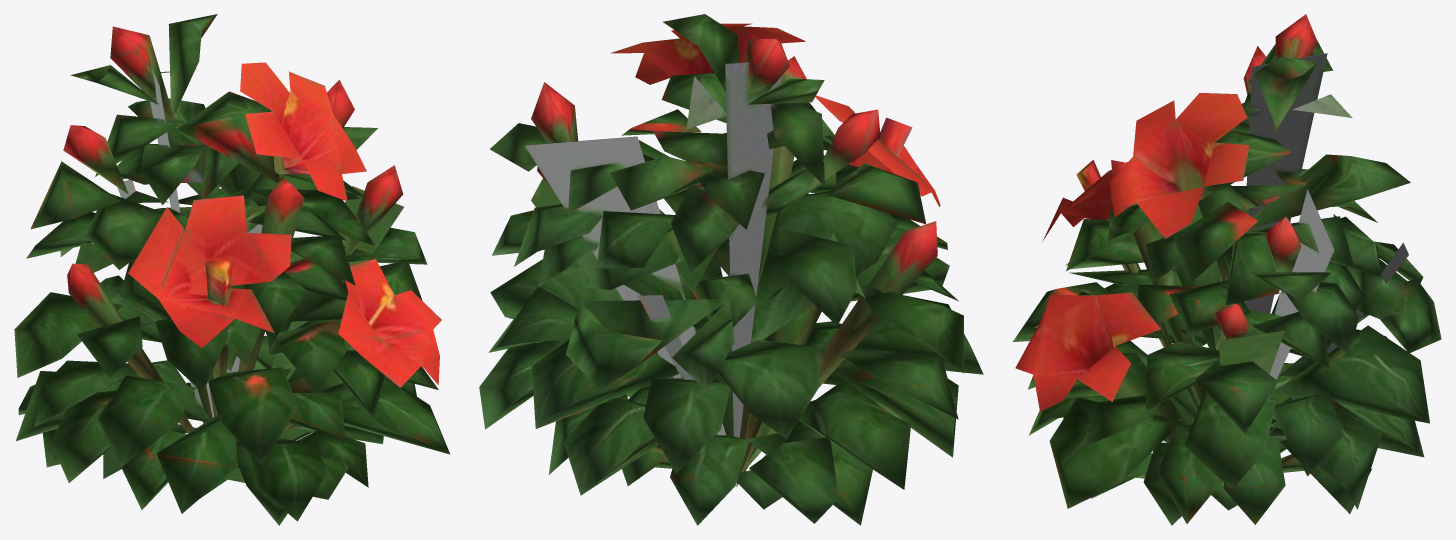
The model's file is rl_isle_orchid.glb.
3 views of the same model, side by side, from view 1: azimuth 30°, elevation 25°; view 2: azimuth 150°, elevation 25°; view 3: azimuth 270°, elevation 25° (orthographic). The views are drawn at different scales.
Visible parts, largest first — view 1: kit-flower-shrub-1; view 2: kit-flower-shrub-1; view 3: kit-flower-shrub-1.
Boxes of the visible parts, box(x1,y1,x2,y2) form: kit-flower-shrub-1: box(14, 14, 450, 525); kit-flower-shrub-1: box(479, 14, 983, 525); kit-flower-shrub-1: box(1012, 14, 1441, 525).
Bounding box in the file's own units: 0.6372 × 0.65 × 0.5747.
1 material, 1 textured.
